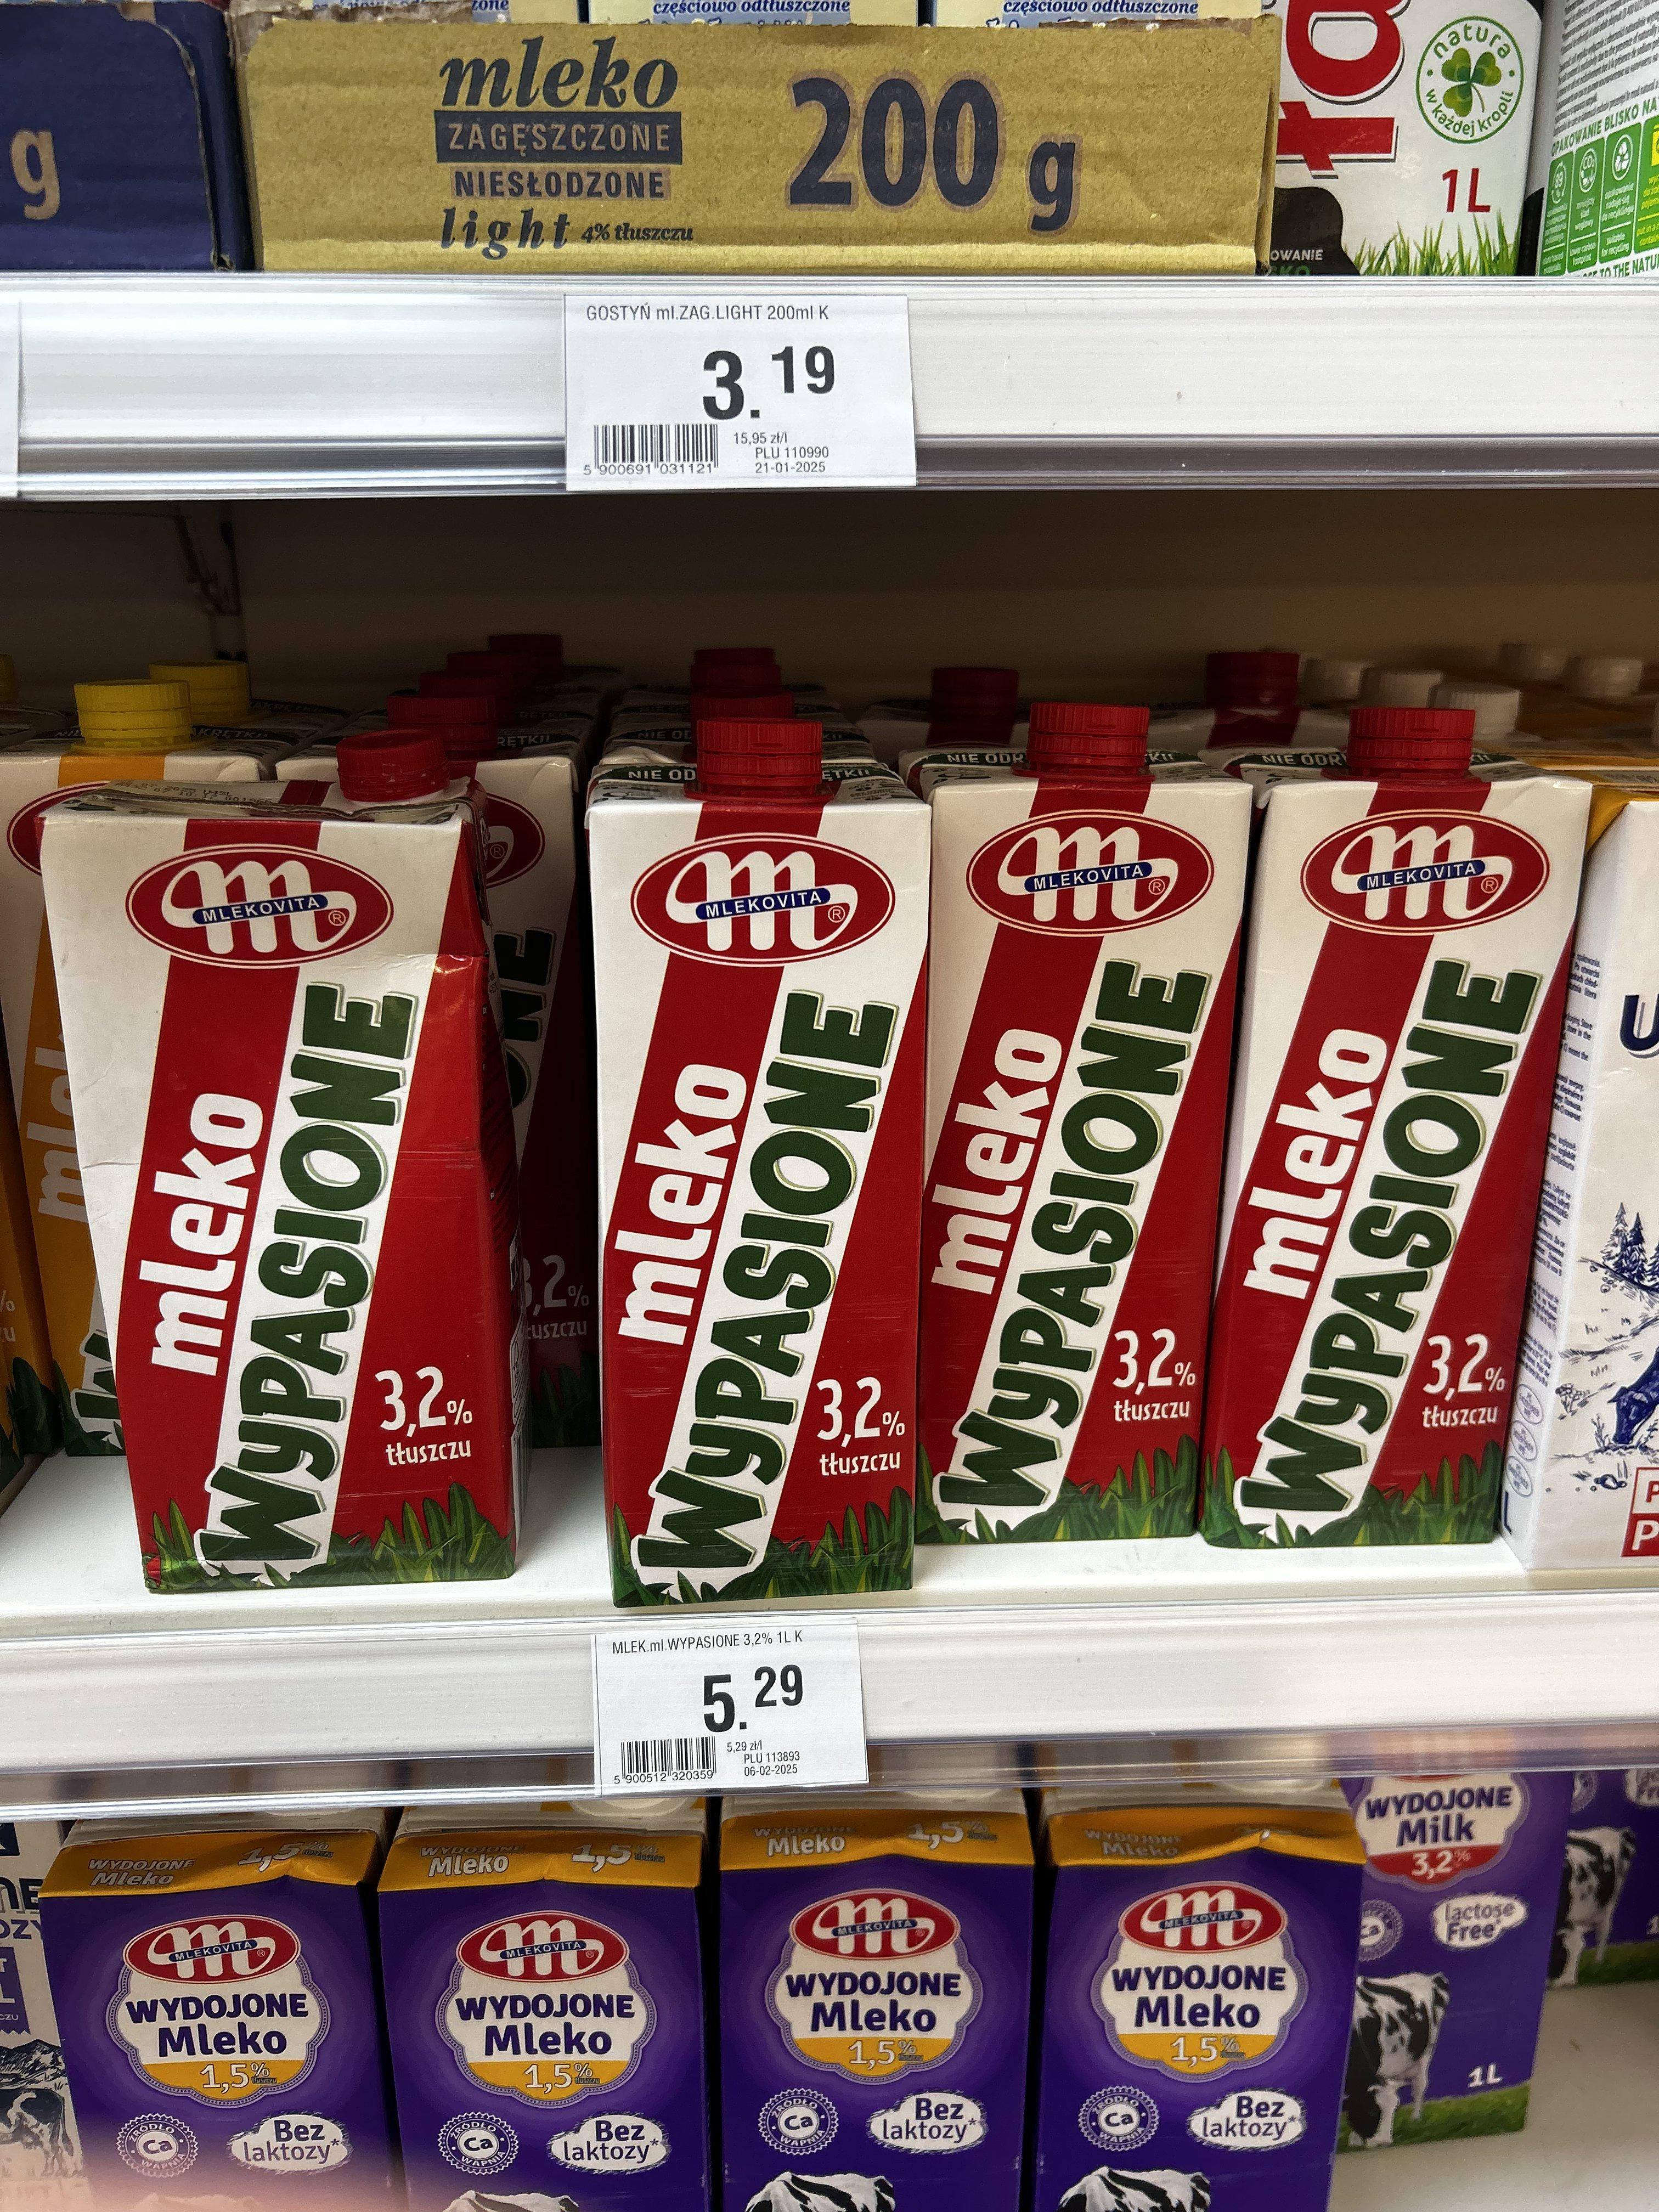Milk: (30, 714, 540, 1580), (1223, 627, 1614, 1576), (577, 707, 918, 1595), (906, 667, 1201, 1538)
